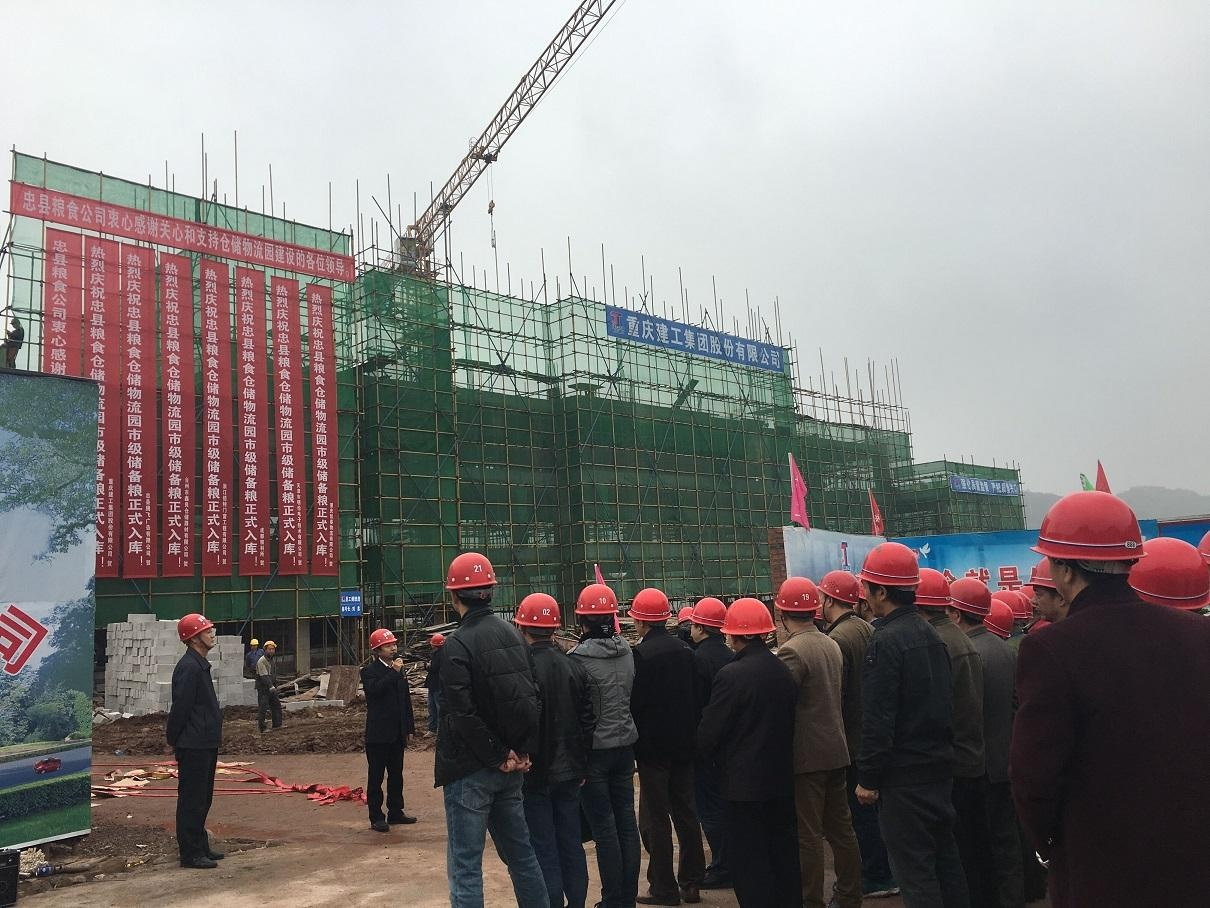red: (1038, 490, 1140, 585), (860, 544, 920, 615), (445, 547, 496, 610), (721, 595, 773, 649), (773, 573, 818, 630), (948, 575, 992, 628), (1028, 559, 1066, 619), (628, 587, 672, 635), (818, 570, 859, 621), (575, 584, 617, 633), (517, 593, 560, 640), (912, 568, 949, 620), (177, 612, 216, 653), (688, 596, 724, 639), (369, 629, 398, 661), (429, 633, 443, 652)
yellow: (262, 639, 275, 656), (249, 637, 260, 649)
